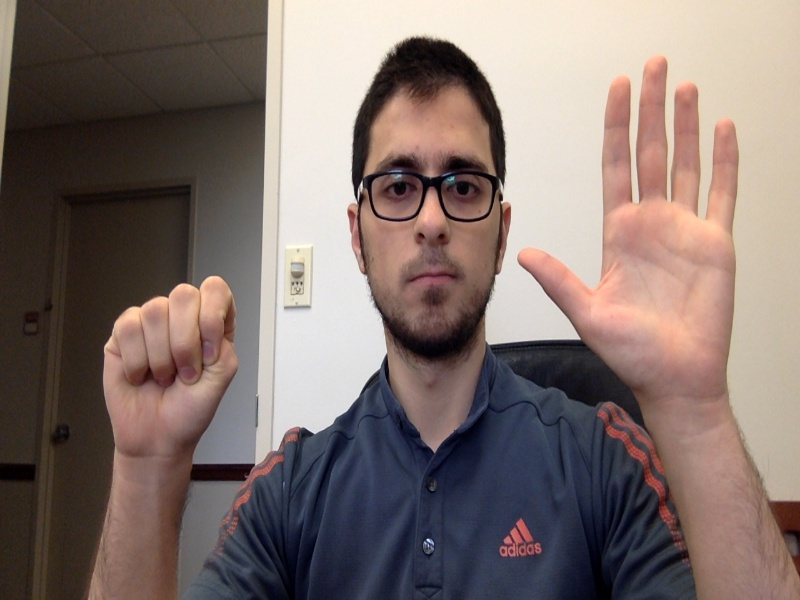0-hand: (101, 276, 237, 458)
5-hand: (518, 58, 737, 396)
